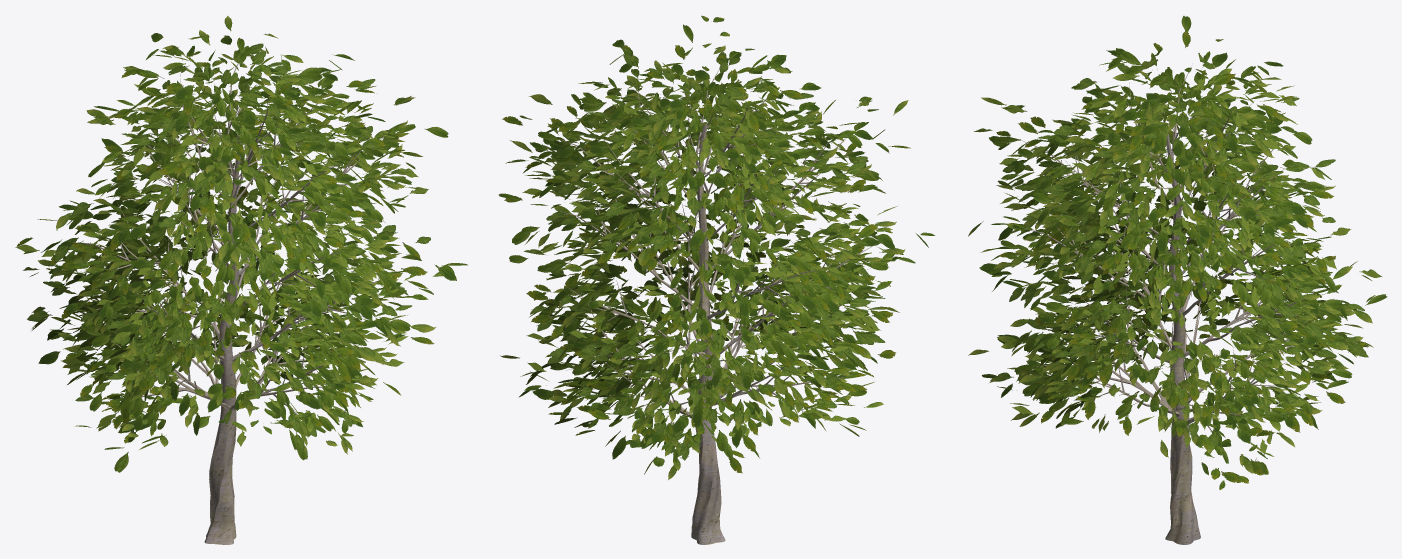
Rendered from tree_realistic.glb.
3 renders of one model, left to right at view 1: azimuth 30°, elevation 25°; view 2: azimuth 150°, elevation 25°; view 3: azimuth 270°, elevation 25°, orthographic. The views are drawn at different scales.
Visible parts, largest first — view 1: tree_tree; view 2: tree_tree; view 3: tree_tree.
Boxes of the visible parts, x1,y1,x2,y2 form: tree_tree: [15, 16, 467, 544]; tree_tree: [499, 15, 935, 544]; tree_tree: [968, 16, 1387, 544].
Bounding box in the file's own units: 3.12 × 3.84 × 2.98.
Materials: 2 (2 with a texture image).
